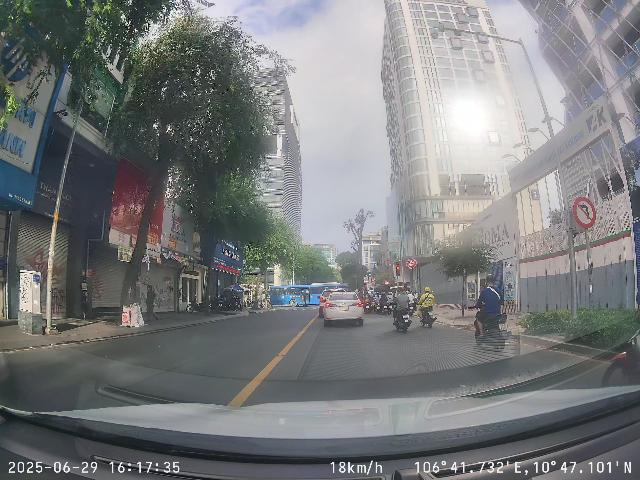123a-cam-re-trai: (573, 196, 596, 228)
